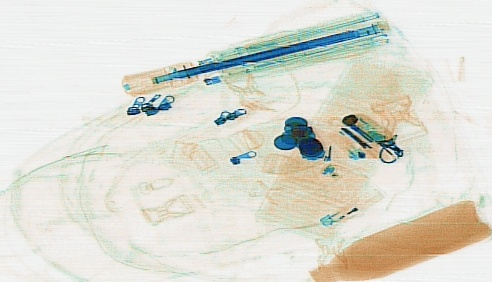lighter: (315, 185, 386, 228)
